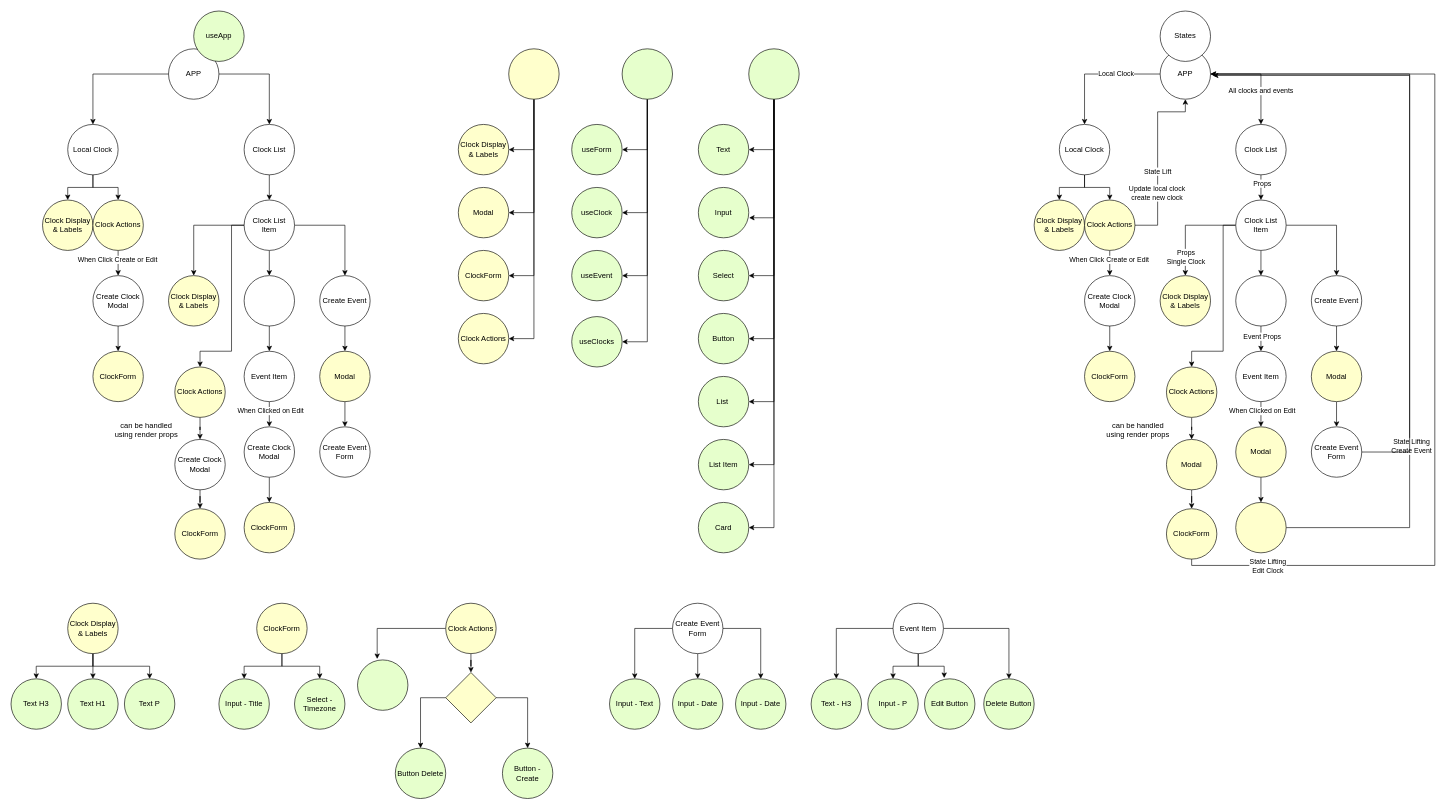
Some shapes in this 1451 by 810 pixel diagram are drawn without their labels. The shapes that lost their labels are listed below. From the top down, each one's centre as x and y in pixels, then its label:
At pixel 533 73: "Reusable Component".
At pixel 647 73: "Hooks".
At pixel 773 73: "UI Components".
At pixel 269 300: "Toggle Events".
At pixel 1260 300: "Toggle Events local state".
At pixel 1260 527: "EventForm".
At pixel 382 684: "Button - Edit".
At pixel 470 697: "Either One".
